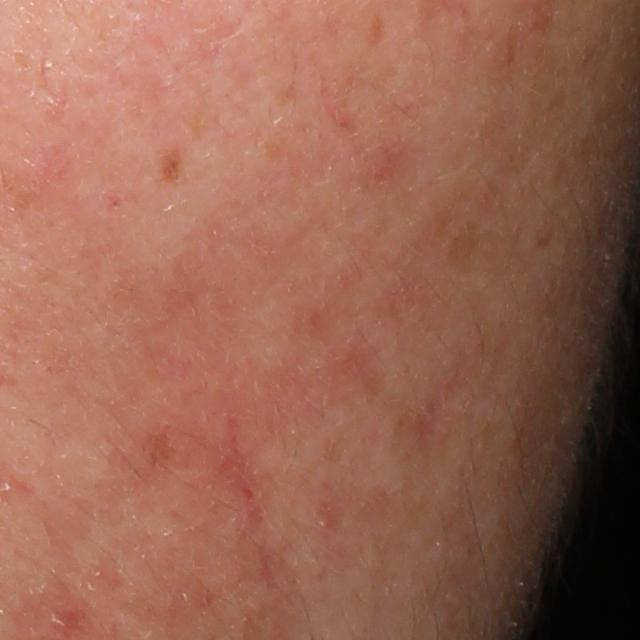melasma: (157, 139, 188, 189)
